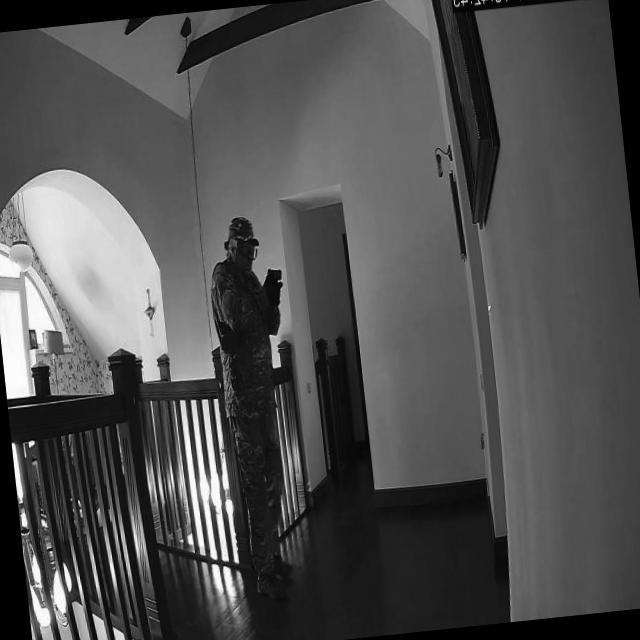gun: (262, 262, 283, 290)
person with a gun: (206, 210, 294, 601)
